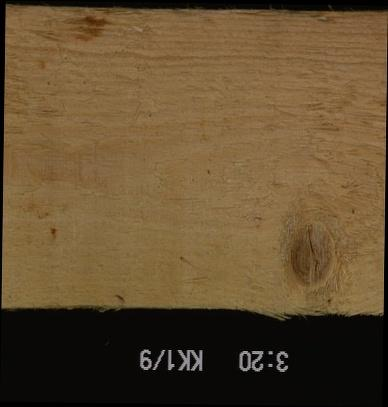sound_knot: (283, 206, 342, 313)
